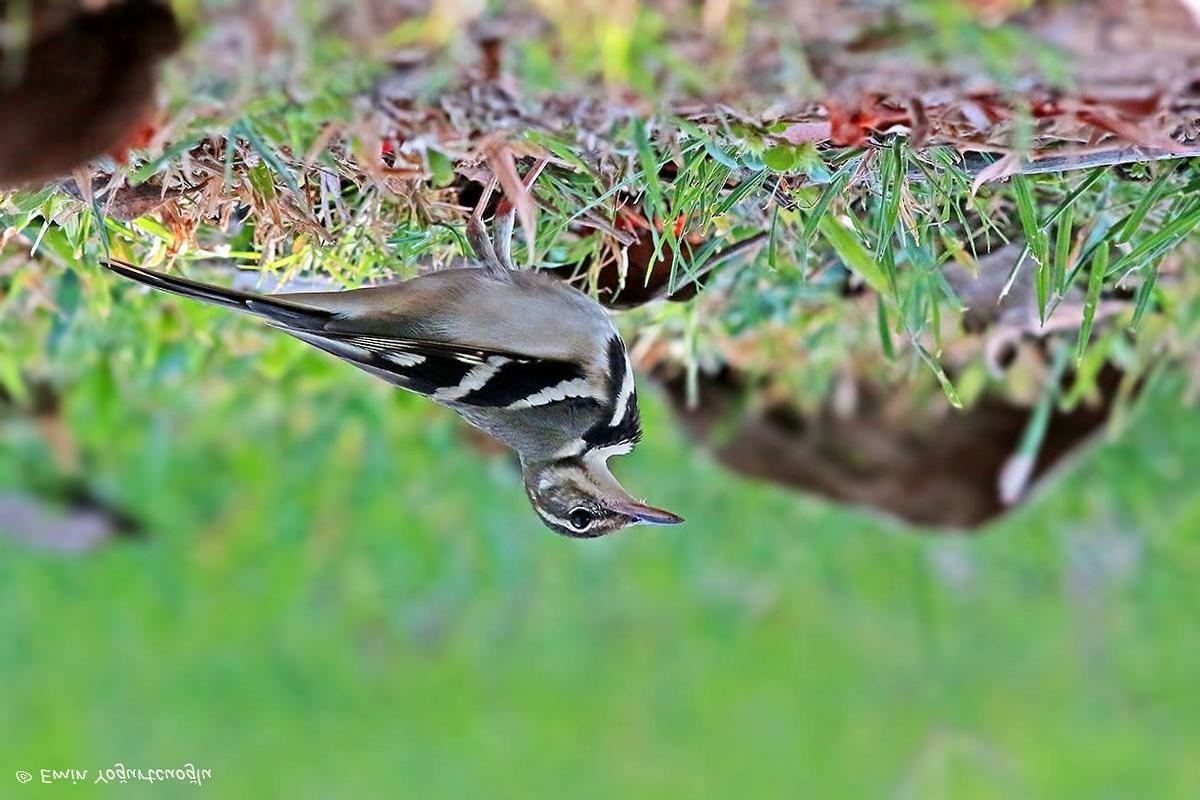wagtail: (97, 150, 708, 587)
